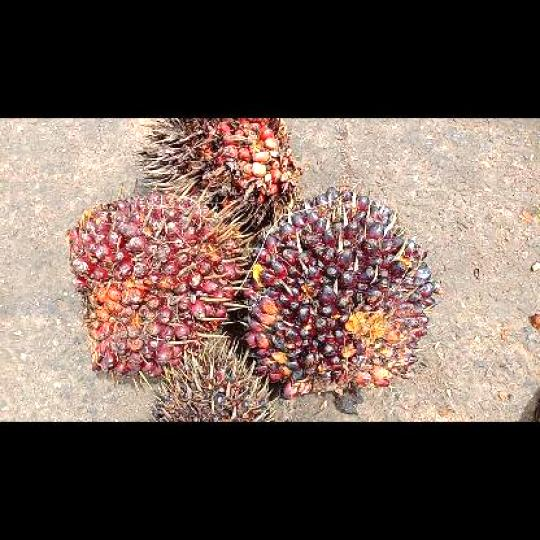kurang masak: (236, 185, 436, 402)
masak: (62, 192, 244, 379)
terlalu masak: (134, 119, 305, 234)
